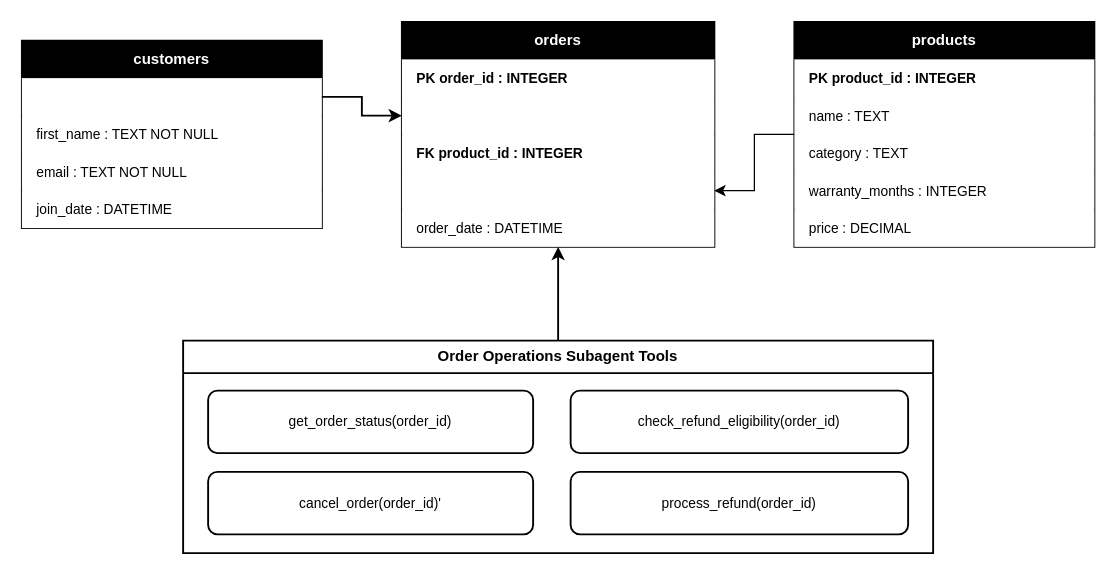
This 1118x576 diagram has some shape labels left out. The centre of each missing label's shape, as x and y in pixels:
FK customer_id : INTEGER: (557,115)
PK customer_id : INTEGER: (171,96)
status : TEXT NOT NULL: (557,190)
